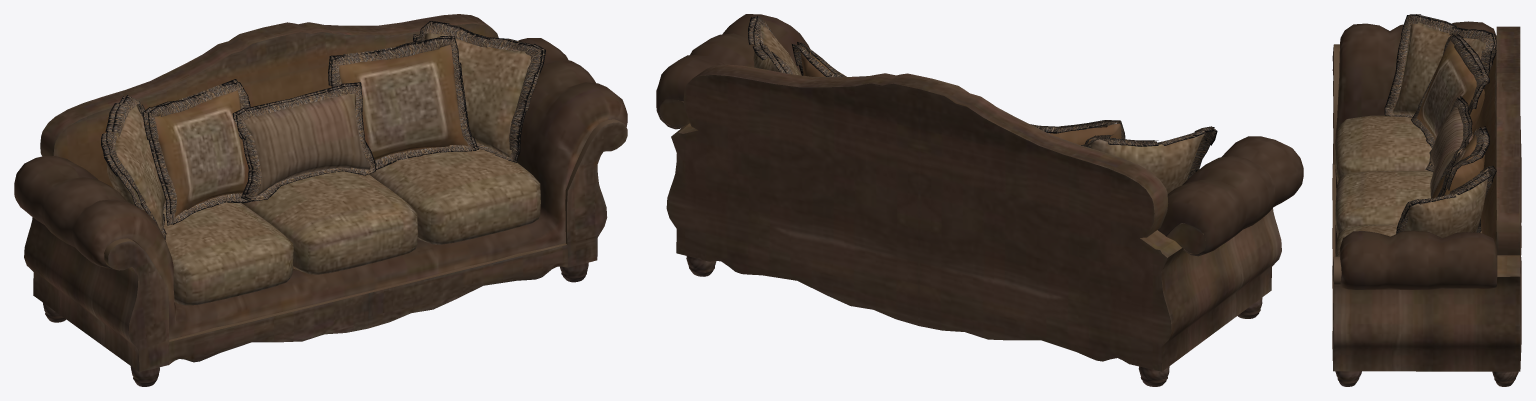
The model's file is ph_sofa_03.glb.
3 renders of one model, left to right at view 1: azimuth 30°, elevation 25°; view 2: azimuth 150°, elevation 25°; view 3: azimuth 270°, elevation 25°, orthographic. The views are drawn at different scales.
Parts seen in each view (by area): view 1: sofa_03; view 2: sofa_03; view 3: sofa_03.
Boxes of the visible parts, bbox=[...] form: sofa_03: bbox=[14, 14, 627, 386]; sofa_03: bbox=[656, 14, 1303, 386]; sofa_03: bbox=[1332, 14, 1521, 386].
Size of the model in its own units: 2.73 by 1.12 by 0.9251.
Materials: 2 (2 with a texture image).
